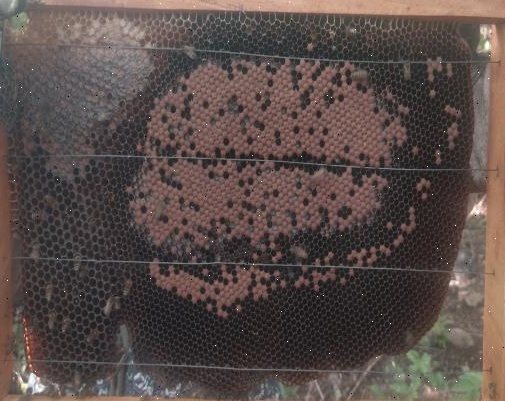cria: (118, 46, 466, 321)
